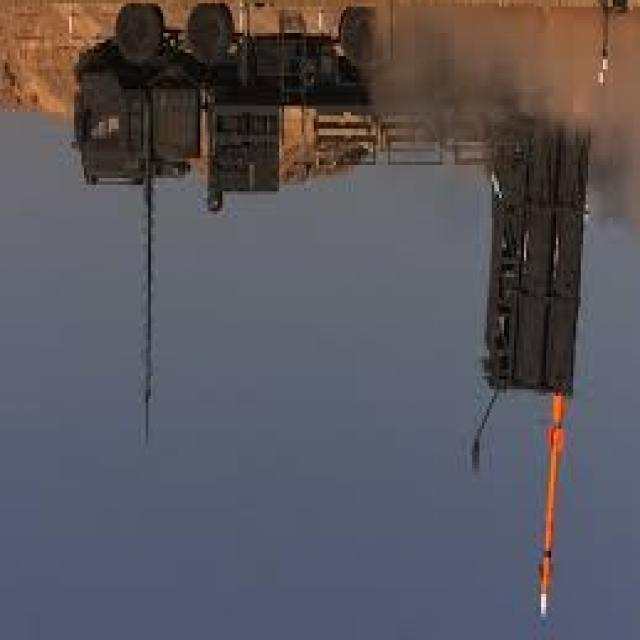missile: (534, 393, 559, 626)
